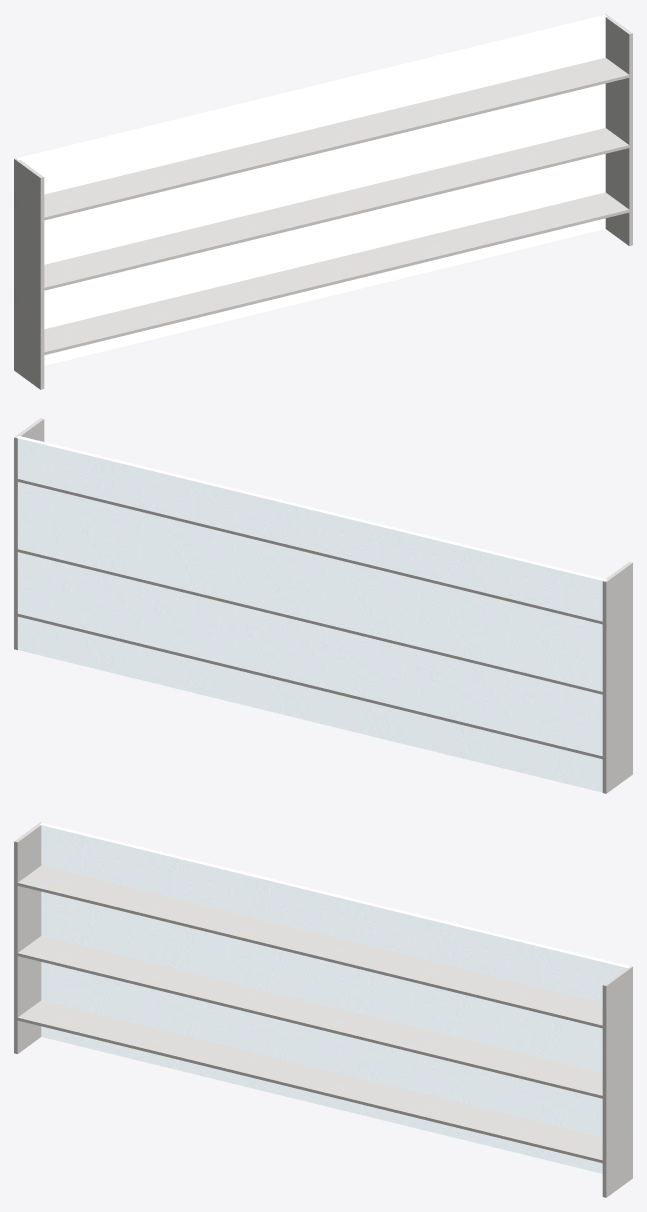
The picture shows the model from 3 angles, top to bottom: view 1: azimuth 30°, elevation 25°; view 2: azimuth 150°, elevation 25°; view 3: azimuth 330°, elevation 25°; orthographic projection.
Visible parts, largest first — view 1: Decor_shoe_wall_shelf; view 2: Decor_shoe_wall_shelf; view 3: Decor_shoe_wall_shelf.
Boxes of the visible parts, x1,y1,x2,y2 form: Decor_shoe_wall_shelf: (14,14,632,389); Decor_shoe_wall_shelf: (14,418,632,793); Decor_shoe_wall_shelf: (14,822,632,1197).
Bounding box in the file's own units: 6.44 × 2.2 × 0.5.
2 materials, 2 textured.
